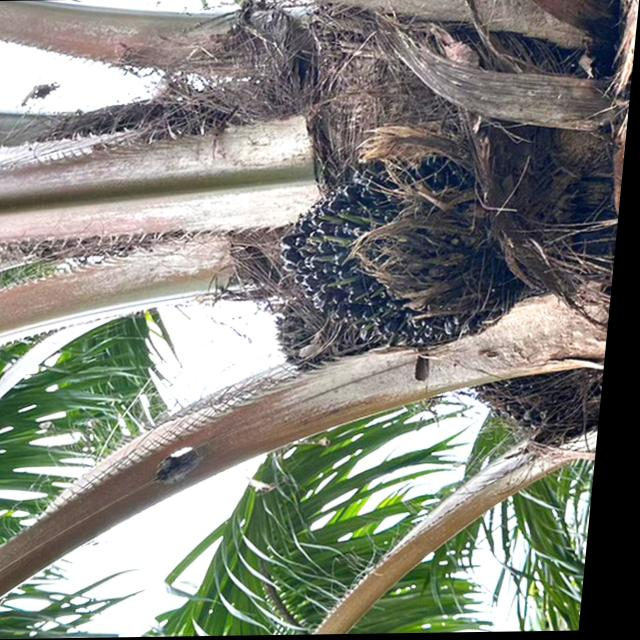unripe: (263, 151, 544, 358), (469, 361, 612, 456)
